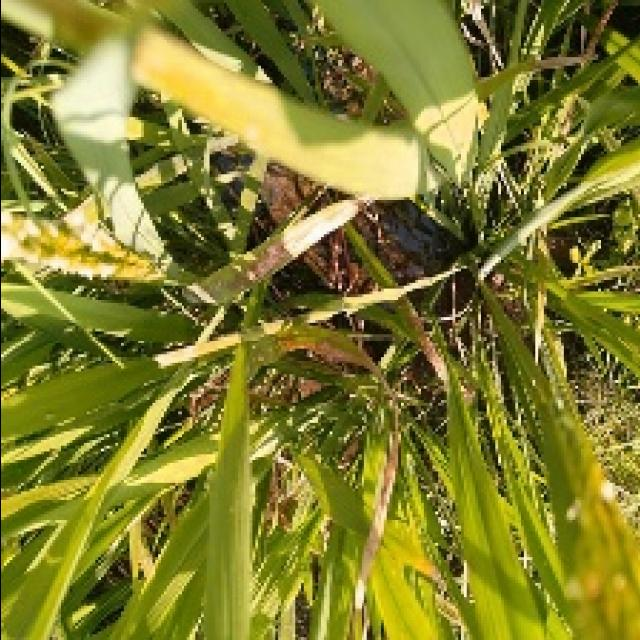Unhealthy: (356, 431, 398, 611), (228, 232, 292, 290), (407, 306, 446, 389), (285, 339, 378, 373)
